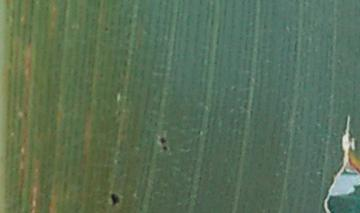tarspot: (108, 190, 122, 209), (156, 135, 169, 145), (161, 145, 169, 151)
